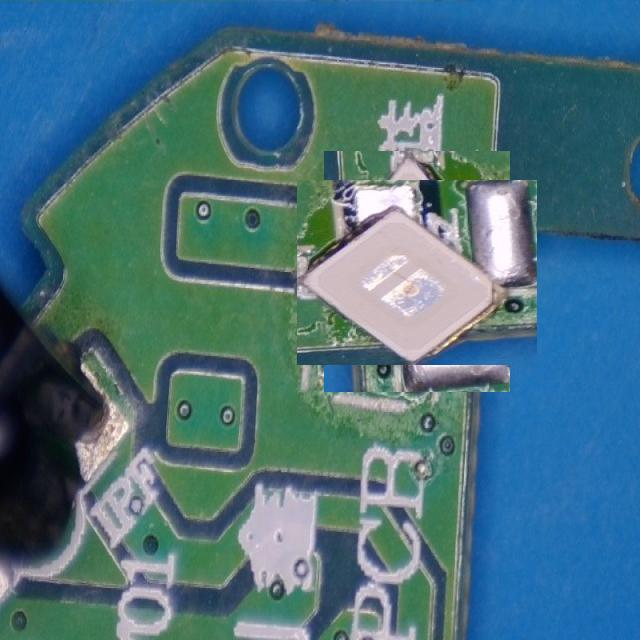Incorrect_installation: (297, 179, 537, 365)
